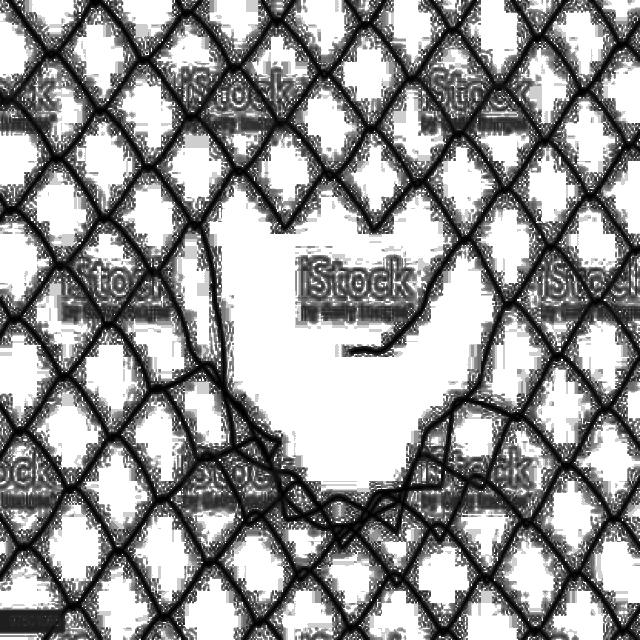anomaly-fence: (165, 126, 532, 548)
